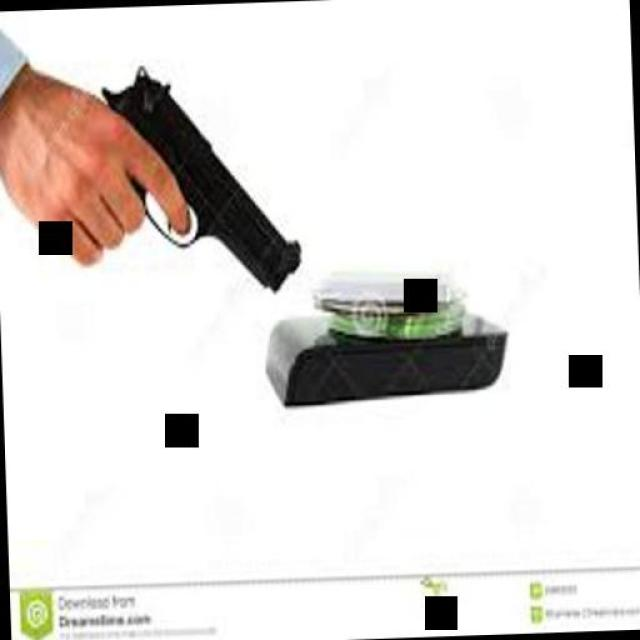gun: (52, 46, 306, 314)
